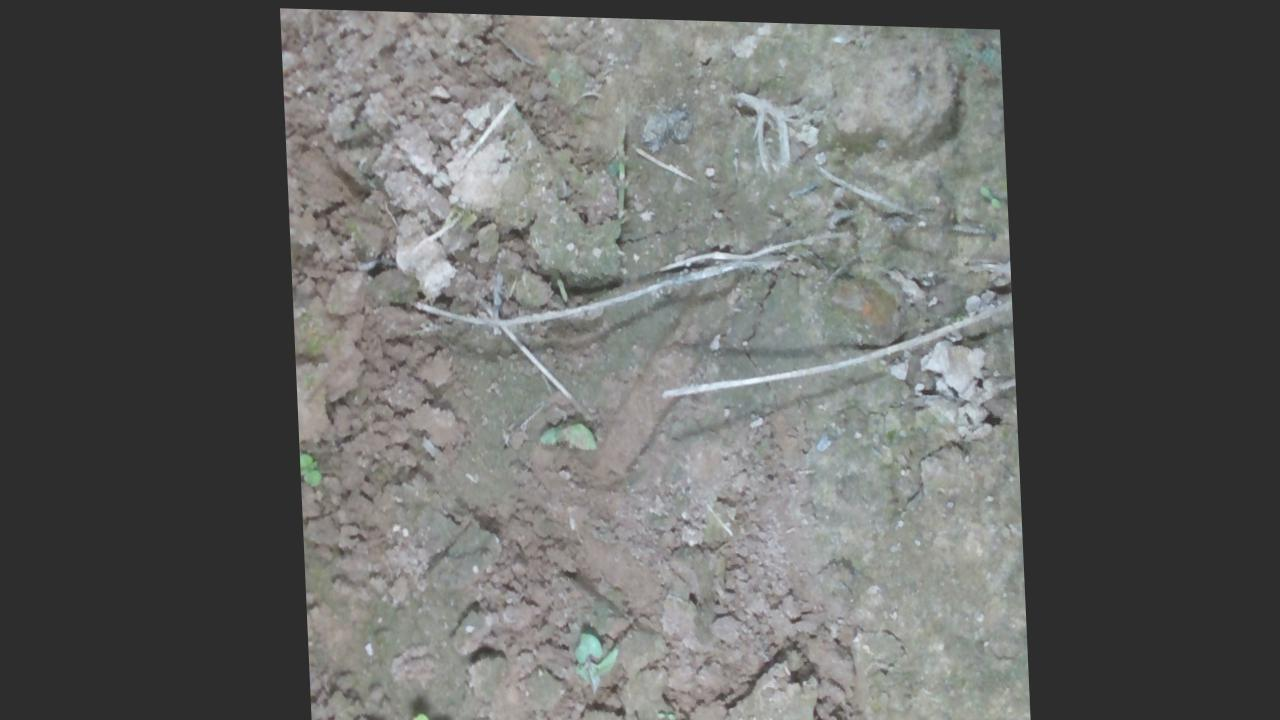weed: (351, 706, 451, 719)
